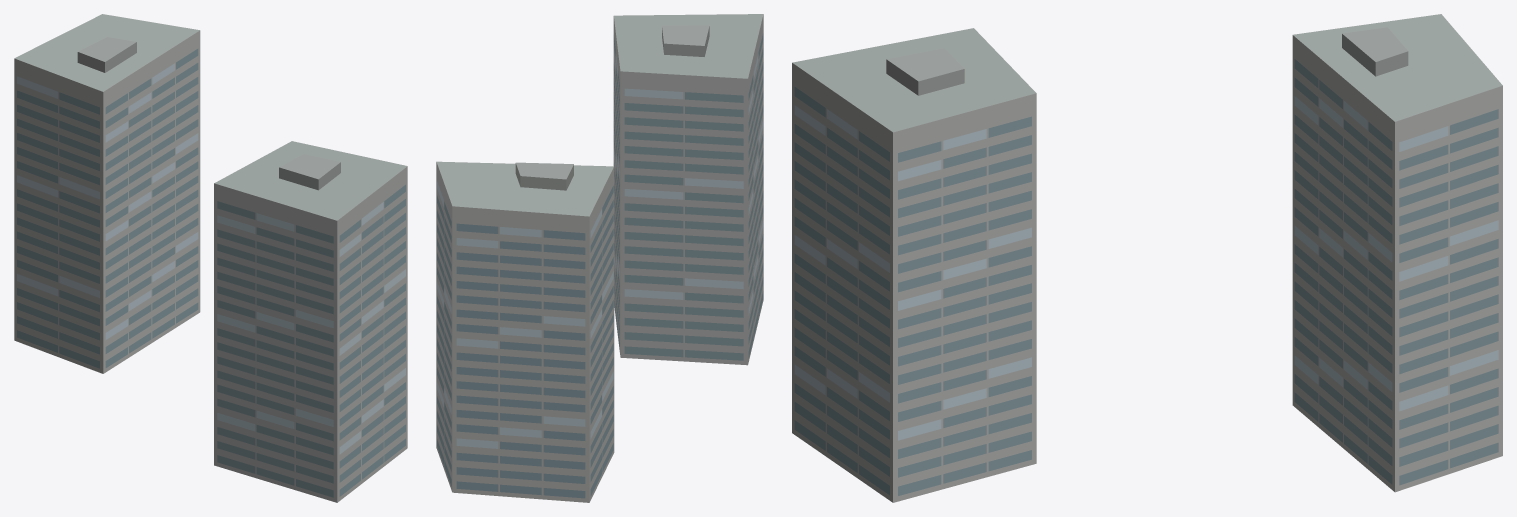
Rendered from apt-a41279929.glb.
3 renders of one model, left to right at view 1: azimuth 30°, elevation 25°; view 2: azimuth 150°, elevation 25°; view 3: azimuth 270°, elevation 25°, orthographic. The views are drawn at different scales.
Visible parts, largest first — view 1: apt-a41279929; view 2: apt-a41279929; view 3: apt-a41279929.
Boxes of the visible parts, bbox=[...] form: apt-a41279929: bbox=[14, 14, 407, 502]; apt-a41279929: bbox=[436, 14, 763, 502]; apt-a41279929: bbox=[792, 14, 1502, 502].
Bounding box in the file's own units: 42.24 × 64 × 107.
